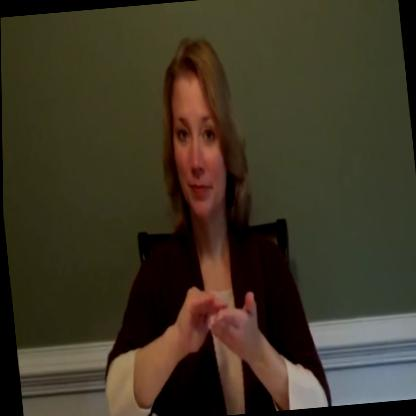ExcuseMe: (69, 26, 334, 416)
